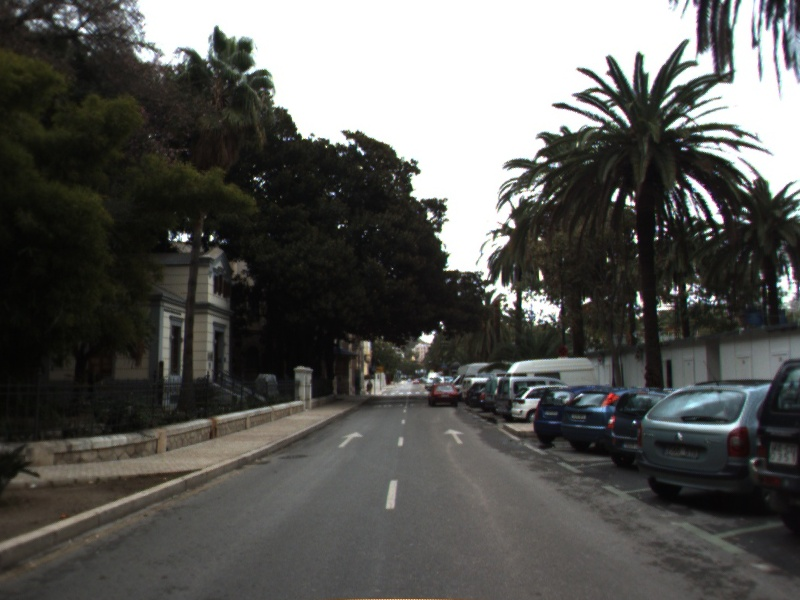STRAIGHT: (336, 430, 365, 450), (442, 427, 467, 446)
